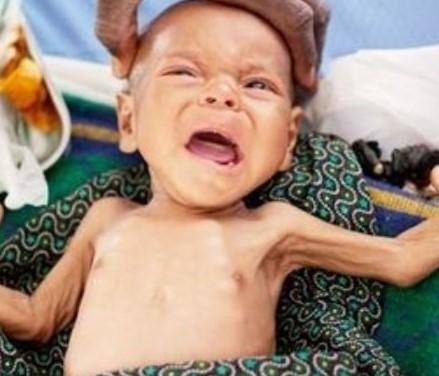Stunting: (146, 0, 311, 227)
